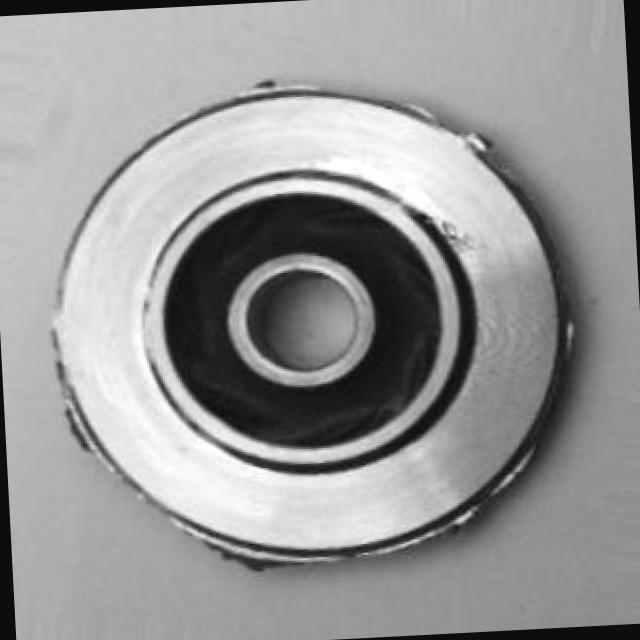Defect: (456, 111, 505, 166)
